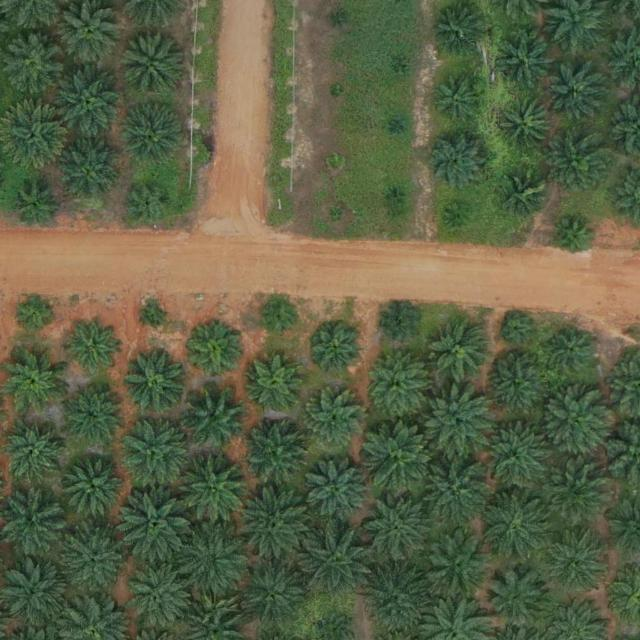Kelapa_Sawit: (113, 487, 191, 565), (171, 522, 249, 600), (231, 486, 309, 564), (297, 523, 375, 601), (360, 417, 438, 495), (358, 561, 436, 639), (412, 448, 490, 526), (475, 419, 553, 497), (478, 487, 556, 565), (178, 455, 248, 526), (240, 418, 310, 489), (421, 126, 491, 196), (53, 65, 123, 135), (119, 414, 189, 484), (121, 561, 191, 631), (235, 559, 305, 629), (303, 455, 373, 525), (360, 491, 430, 561), (421, 385, 491, 455), (422, 530, 492, 600), (481, 565, 551, 635), (539, 387, 609, 457), (540, 457, 610, 527), (492, 28, 554, 91), (547, 132, 609, 195), (57, 139, 119, 202), (4, 350, 66, 413), (0, 422, 62, 485), (1, 493, 63, 556), (4, 558, 66, 621), (61, 383, 123, 446), (62, 455, 124, 518), (60, 528, 122, 591), (300, 389, 362, 452), (365, 352, 427, 415), (428, 319, 490, 382), (484, 353, 546, 416), (119, 32, 181, 94), (122, 103, 184, 165), (60, 2, 122, 64), (1, 34, 63, 96), (124, 348, 186, 410), (183, 384, 245, 446), (433, 71, 488, 126), (431, 3, 486, 58), (499, 98, 554, 153), (64, 320, 119, 375), (248, 354, 303, 409), (309, 323, 364, 378), (548, 534, 603, 589), (548, 68, 602, 123), (188, 326, 242, 381), (126, 180, 172, 227), (503, 172, 549, 218), (12, 183, 58, 229), (548, 327, 594, 373), (553, 218, 592, 257), (380, 304, 419, 343), (14, 292, 52, 331), (261, 300, 299, 339), (501, 315, 532, 346), (447, 203, 470, 226), (143, 305, 166, 328), (390, 63, 405, 78), (332, 11, 347, 26), (329, 85, 344, 100), (327, 155, 342, 170), (328, 207, 343, 222), (391, 118, 406, 133), (387, 187, 402, 202)
